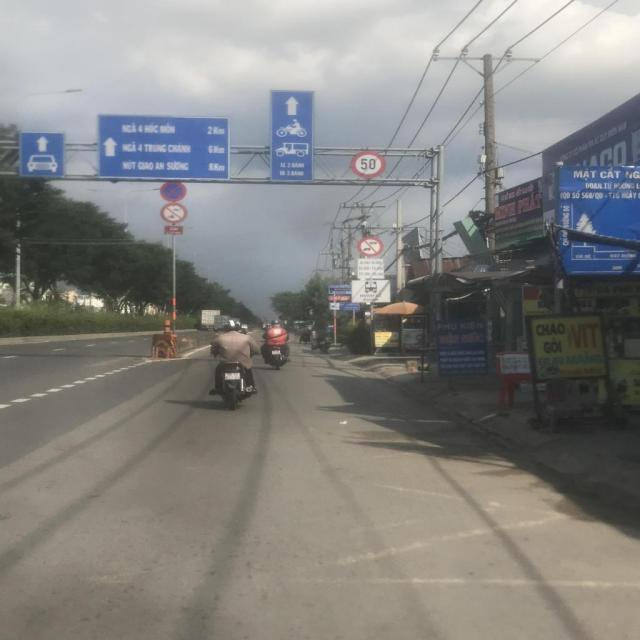107-cam-oto-khach-va-oto-tai: (357, 236, 384, 257)
127-toc-do-toi-da-50: (352, 152, 386, 177)
130-cam-dung-va-do-xe: (158, 179, 186, 201)
